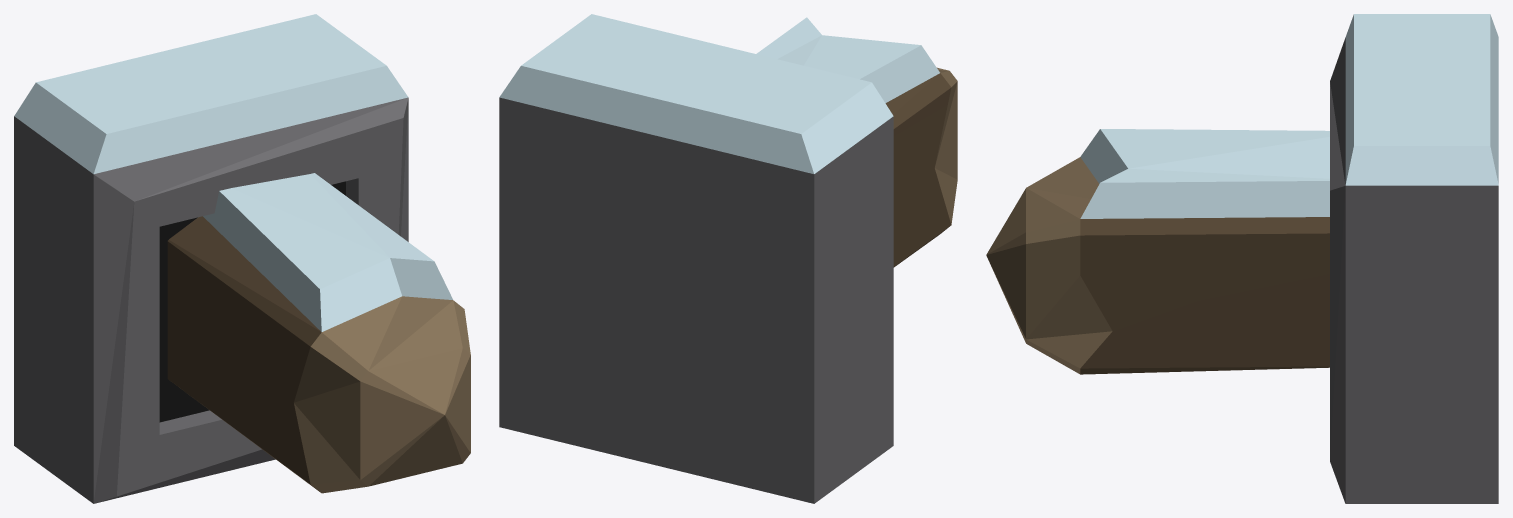
Rendered from SM_Bld_Castle_Wood_Detal_01_Snow.glb.
The picture shows the model from 3 angles, left to right: view 1: azimuth 30°, elevation 25°; view 2: azimuth 150°, elevation 25°; view 3: azimuth 270°, elevation 25°; orthographic projection. The views are drawn at different scales.
Visible parts, largest first — view 1: SM_Bld_Castle_Wood_Detal_01_Snow; view 2: SM_Bld_Castle_Wood_Detal_01_Snow; view 3: SM_Bld_Castle_Wood_Detal_01_Snow.
Part boxes in pixels (bbox=[...]): SM_Bld_Castle_Wood_Detal_01_Snow: bbox=[14, 14, 470, 503]; SM_Bld_Castle_Wood_Detal_01_Snow: bbox=[499, 14, 957, 503]; SM_Bld_Castle_Wood_Detal_01_Snow: bbox=[986, 14, 1498, 503].
Size of the model in its own units: 0.2906 by 0.3195 by 0.4244.
1 material, 1 textured.
